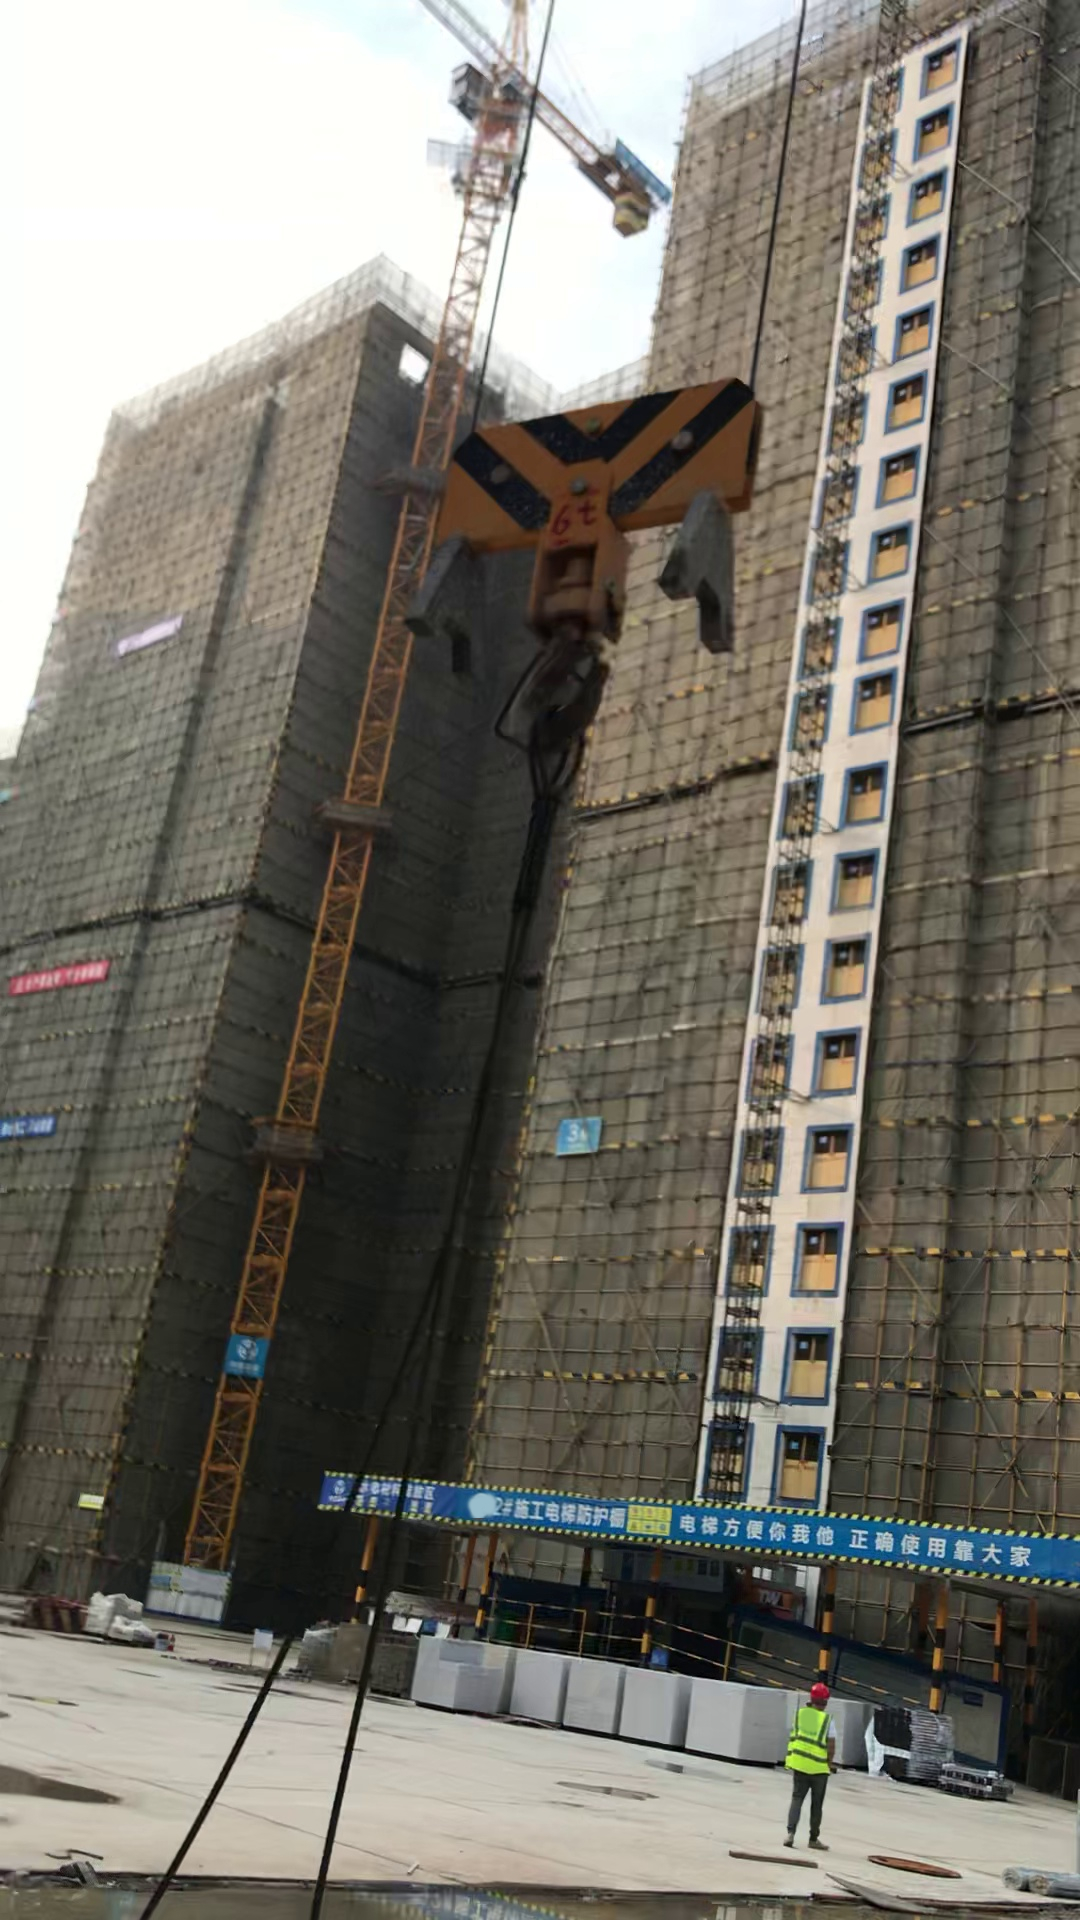brick: (693, 1669, 781, 1773), (408, 1636, 508, 1711), (621, 1662, 688, 1744), (506, 1641, 574, 1722), (568, 1657, 624, 1733)
helmet: (807, 1682, 833, 1702)
hook: (411, 382, 747, 765)
person: (774, 1680, 836, 1852)
slogan: (330, 1474, 1078, 1590), (1, 957, 120, 1002), (1, 1118, 56, 1141)
vest: (785, 1706, 833, 1776)
